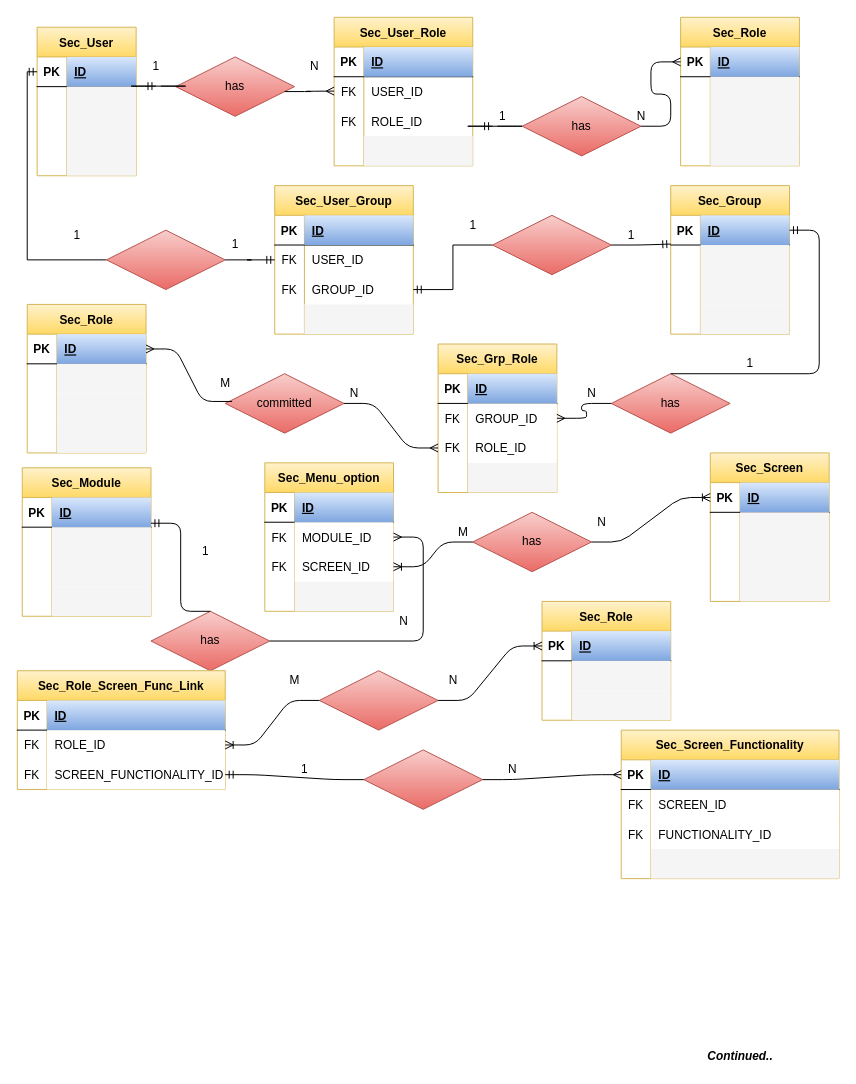
Image size: 856x1084. Some labels were removed from this diagram. Each missing label, with the centre of its shape:
"assign" belongs at pixel 165 259.
"assigned" belongs at pixel 423 779.
"associated" belongs at pixel 378 700.
"have" belongs at pixel 551 244.
